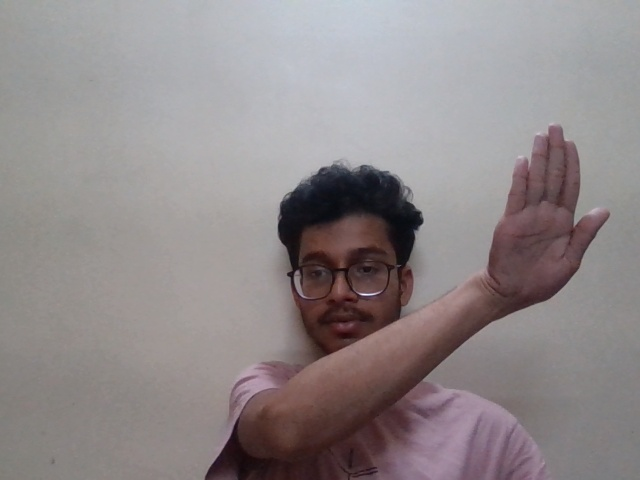hello: (469, 118, 619, 314)
